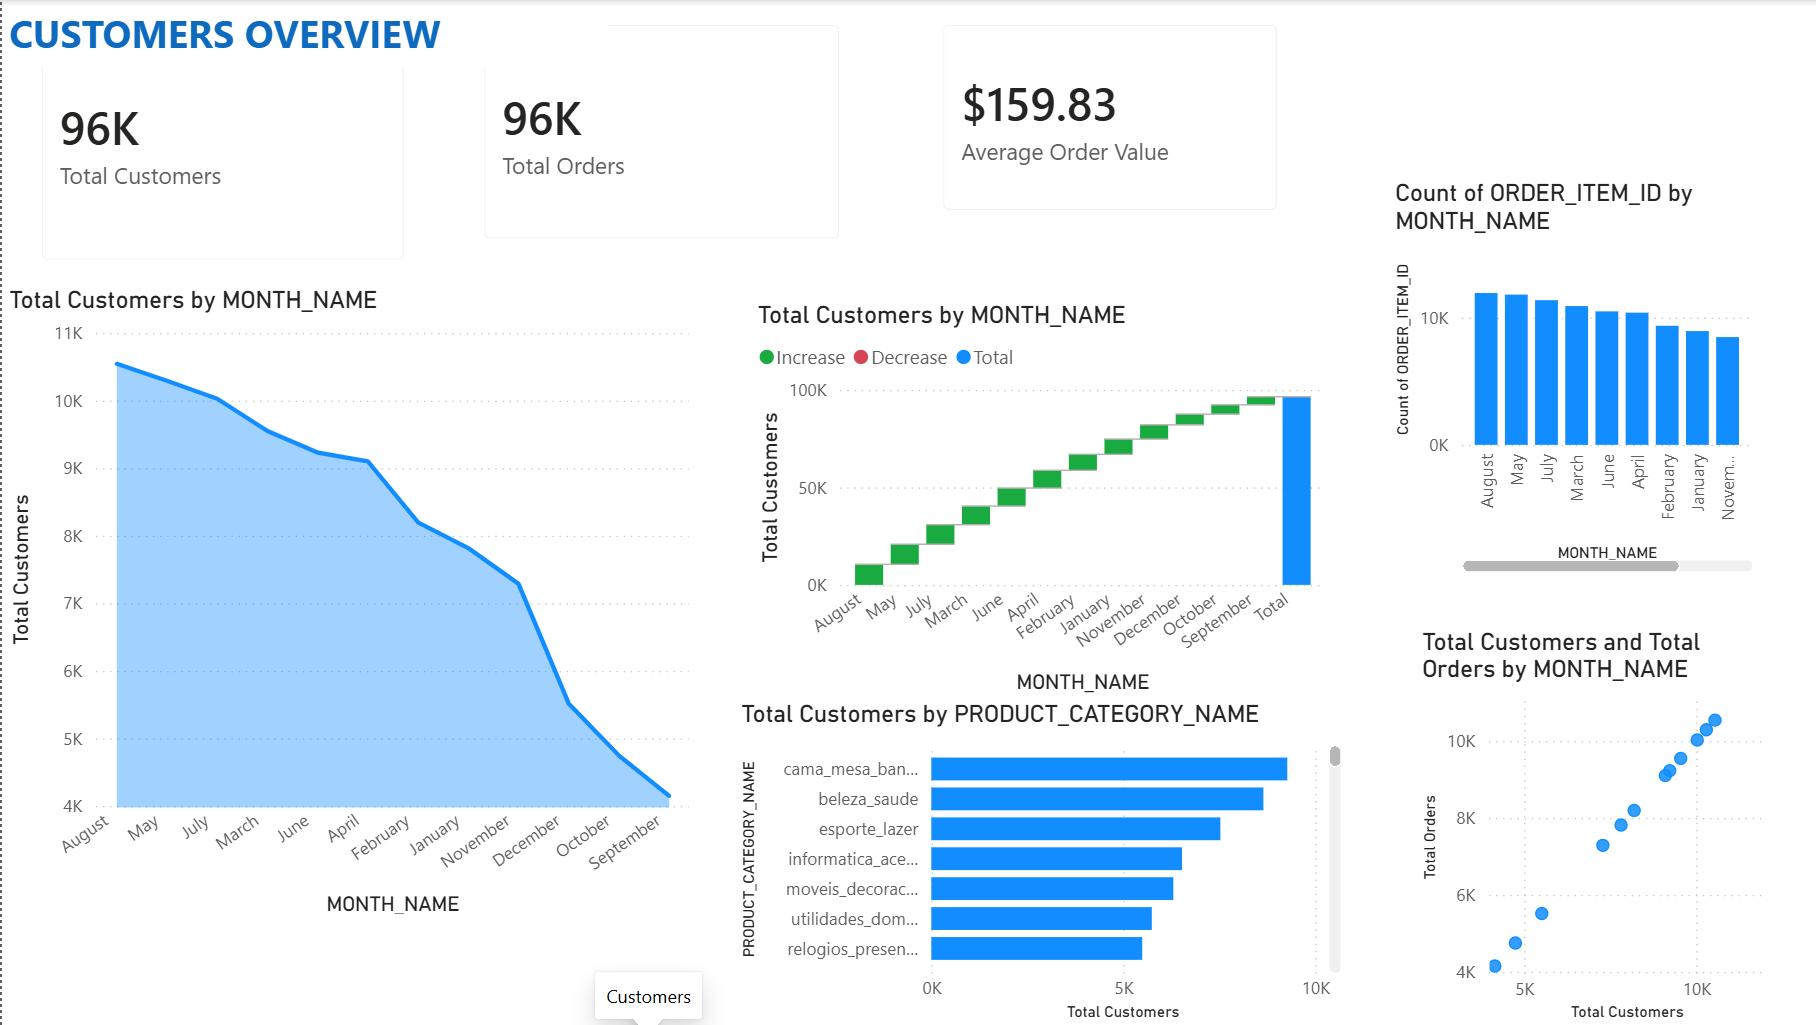

Layout of this report page (visuals, bound fields, positions):
{"tool":"powerbi","page":{"name":"Customers","canvas":[1280,720],"ordinal":2},"visuals":[{"type":"cardVisual","fields":{"Data":["_MEASURES.Total Customers"]},"box":[10.1,0,288.3,199.3],"z":0},{"type":"cardVisual","fields":{"Data":["_MEASURES.Average Order Value"]},"box":[643,0,268,164.4],"z":1000},{"type":"cardVisual","fields":{"Data":["_MEASURES.Total Orders"]},"box":[320.9,0,283.8,184.7],"z":2000},{"type":"areaChart","fields":{"Category":["DIM_DATE.MONTH_NAME"],"Y":["_MEASURES.Total Customers"]},"box":[0,199.3,486.5,445.9],"z":3000},{"type":"columnChart","fields":{"Category":["DIM_DATE.MONTH_NAME"],"Y":["CountNonNull(FACT_ORDER_ITEMS.ORDER_ITEM_ID)"]},"box":[971.8,125,260.1,280.4],"z":4000},{"type":"waterfallChart","fields":{"Category":["DIM_DATE.MONTH_NAME"],"Y":["_MEASURES.Total Customers"]},"box":[524.8,210.6,407.7,280.4],"z":5000},{"type":"barChart","fields":{"Category":["DIM_PRODUCT.PRODUCT_CATEGORY_NAME"],"Y":["_MEASURES.Total Customers"]},"box":[513.5,489.9,430.2,229.7],"z":6000},{"type":"scatterChart","fields":{"X":["_MEASURES.Total Customers"],"Y":["_MEASURES.Total Orders"],"Category":["DIM_DATE.MONTH_NAME"]},"box":[991,439.2,260.1,280.4],"z":7000},{"type":"textbox","box":[0,0,424.5,47.3],"z":8000}]}

Visuals, with their boxes in screenshot pixels (x1, y1, x2, y2), scaled from the page's 1280x720 canvas onto the 1816x1025 screenshot:
cardVisual - _MEASURES.Total Customers: 14,0,423,284
cardVisual - _MEASURES.Average Order Value: 912,0,1292,234
cardVisual - _MEASURES.Total Orders: 455,0,858,263
areaChart - DIM_DATE.MONTH_NAME x _MEASURES.Total Customers: 0,284,690,919
columnChart - DIM_DATE.MONTH_NAME x CountNonNull(FACT_ORDER_ITEMS.ORDER_ITEM_ID): 1379,178,1748,577
waterfallChart - DIM_DATE.MONTH_NAME x _MEASURES.Total Customers: 745,300,1323,699
barChart - DIM_PRODUCT.PRODUCT_CATEGORY_NAME x _MEASURES.Total Customers: 729,697,1339,1024
scatterChart - _MEASURES.Total Customers x _MEASURES.Total Orders: 1406,625,1775,1024
textbox: 0,0,602,67
